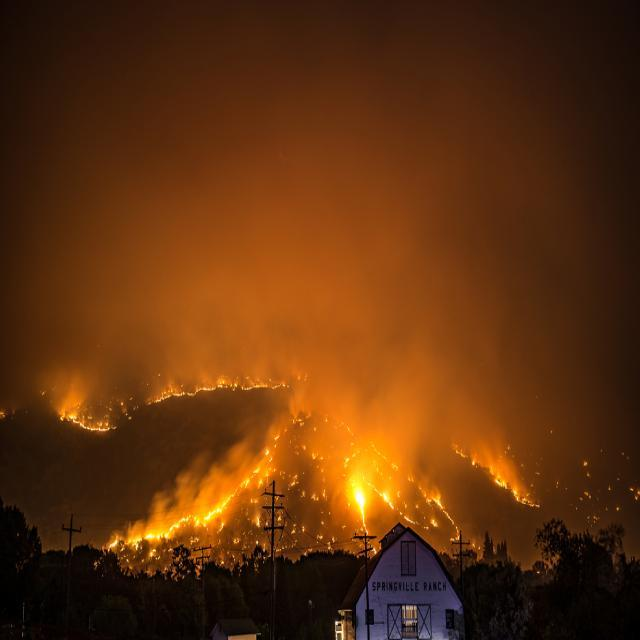Smoke: (106, 432, 281, 544), (286, 341, 444, 463), (454, 386, 520, 482)
